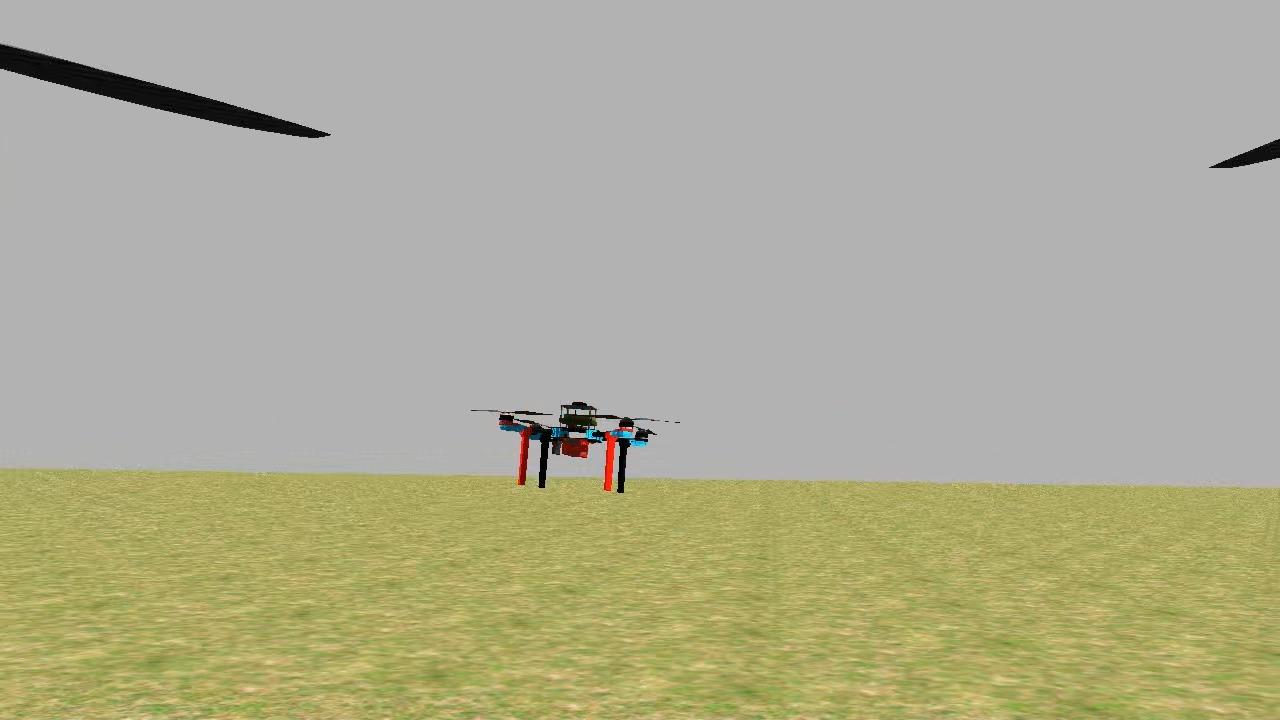UAV: (486, 385, 657, 503)
